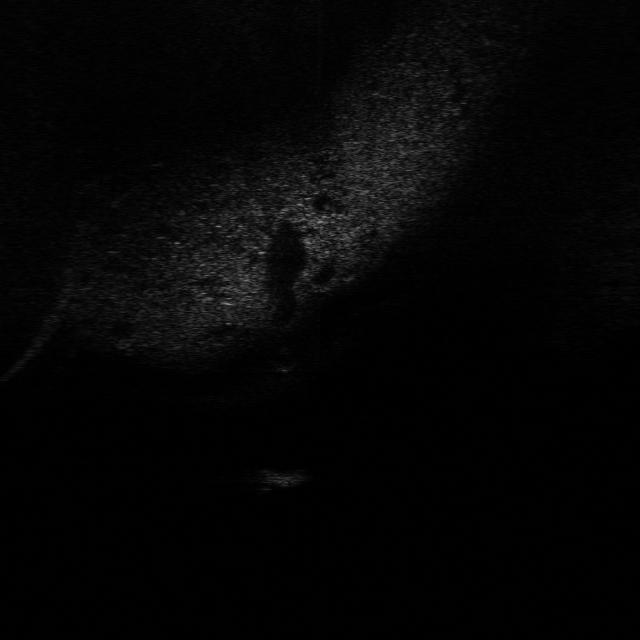ball: (268, 346, 300, 373)
cube: (246, 466, 314, 488)
